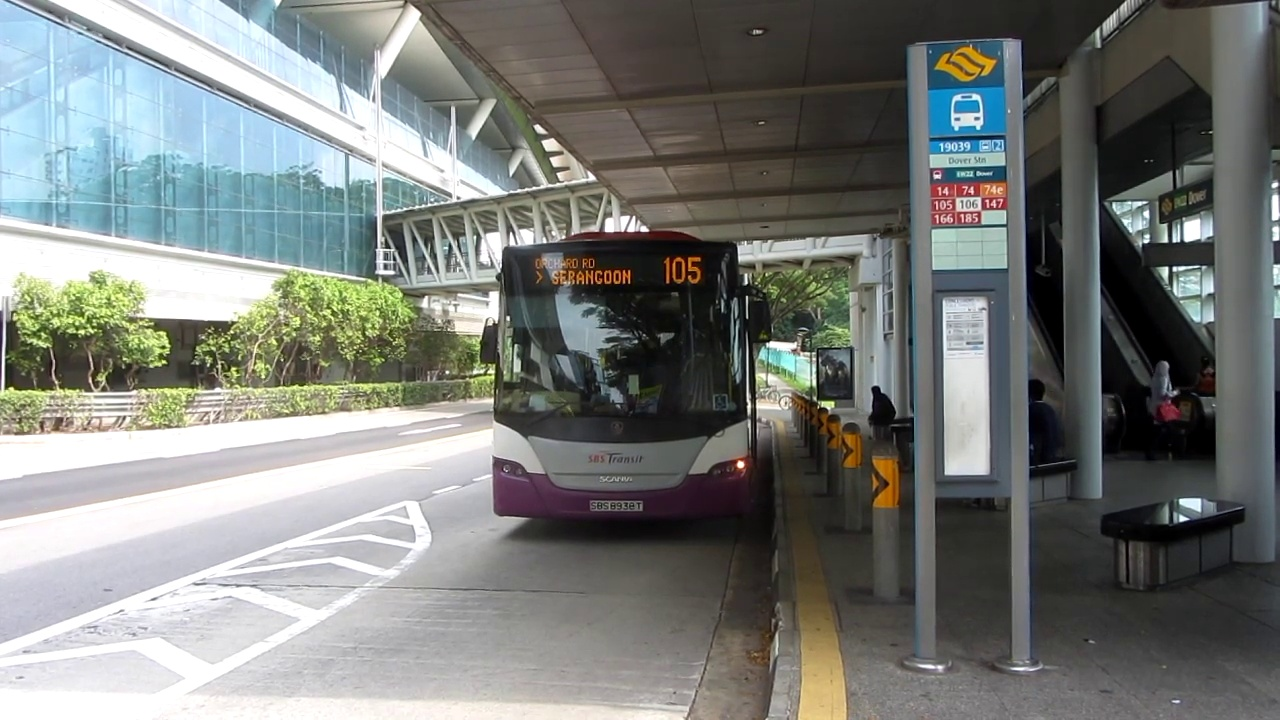bus panel: (526, 251, 710, 290)
